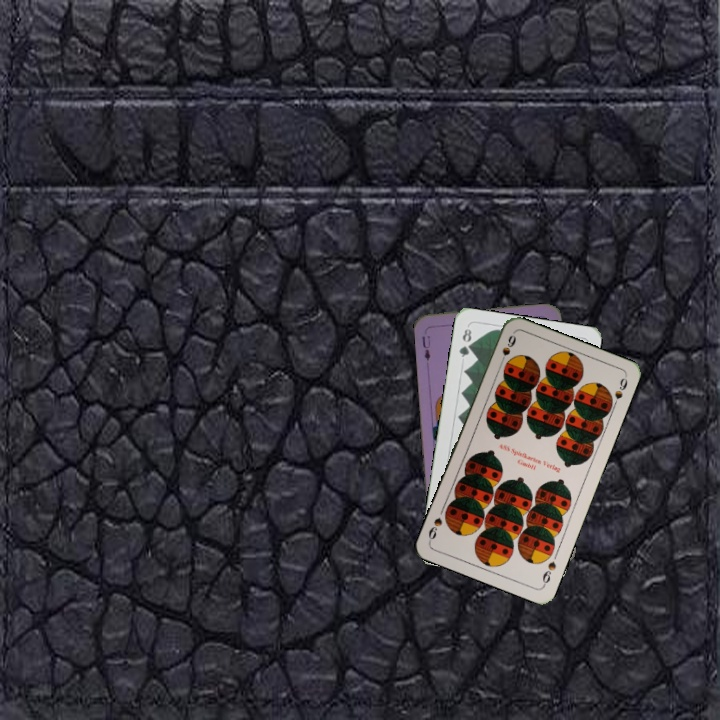EU: (418, 332, 433, 363)
G8: (455, 323, 474, 360)
S9: (495, 331, 519, 369), (538, 557, 559, 589)
